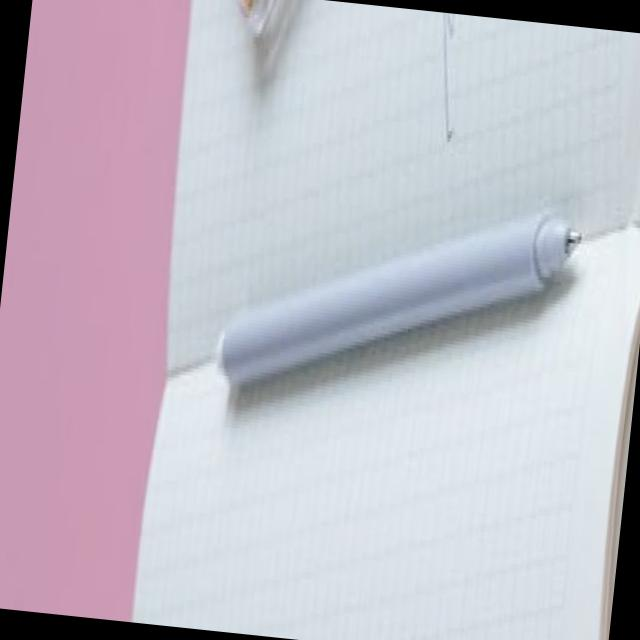pen: (193, 149, 600, 423)
